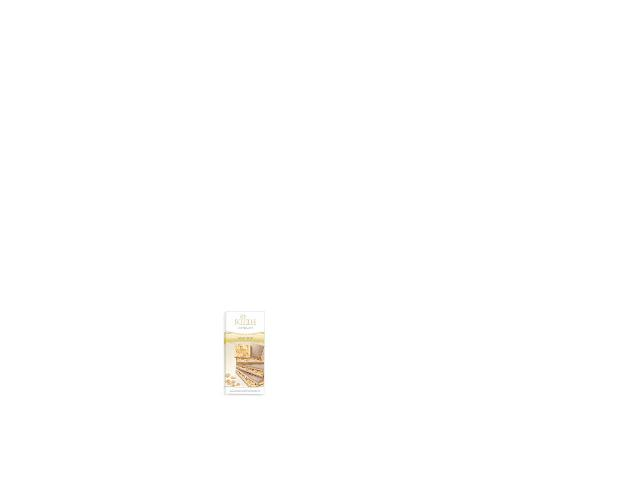chocolate: (207, 306, 272, 398)
